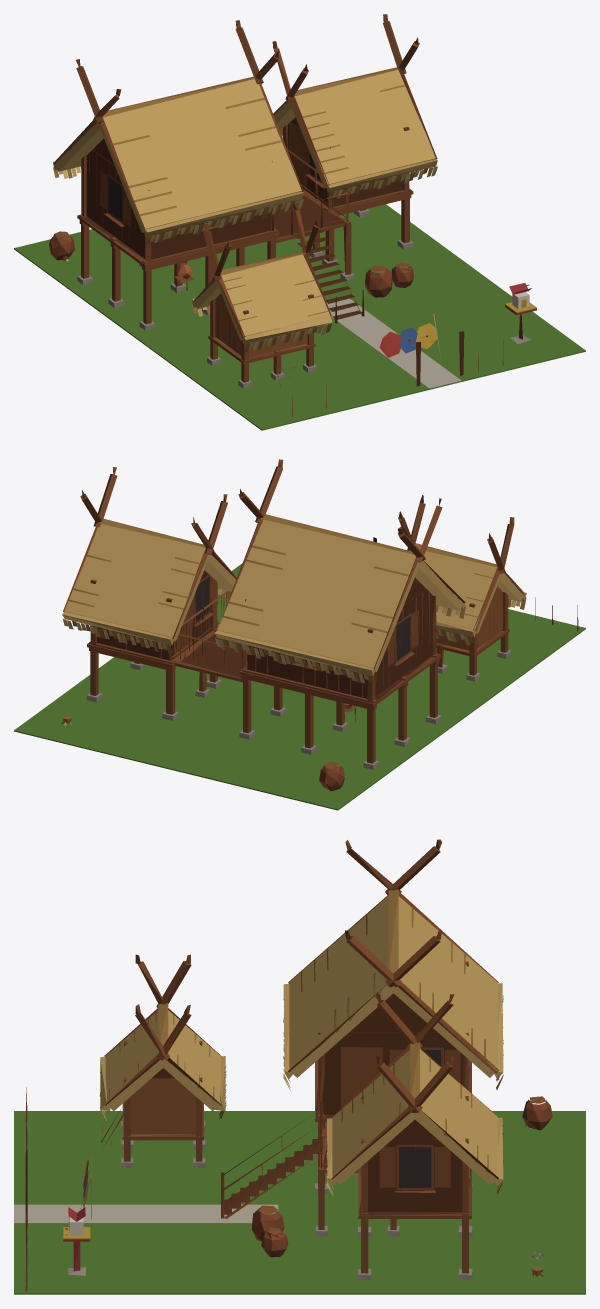
The model's file is house12_2.glb.
3 views of the same model, one above another, from view 1: azimuth 30°, elevation 25°; view 2: azimuth 150°, elevation 25°; view 3: azimuth 270°, elevation 25° (orthographic). The views are drawn at different scales.
Visible parts, largest first — view 1: body, windows; view 2: body, windows; view 3: body, windows.
Part boxes in pixels (bbox=[...]): body: bbox=[14, 14, 585, 430]; windows: bbox=[108, 153, 320, 227]; body: bbox=[14, 459, 585, 810]; windows: bbox=[195, 576, 410, 666]; body: bbox=[14, 839, 585, 1294]; windows: bbox=[399, 1049, 441, 1187].
Size of the model in its own units: 12.08 by 8.57 by 15.9.
